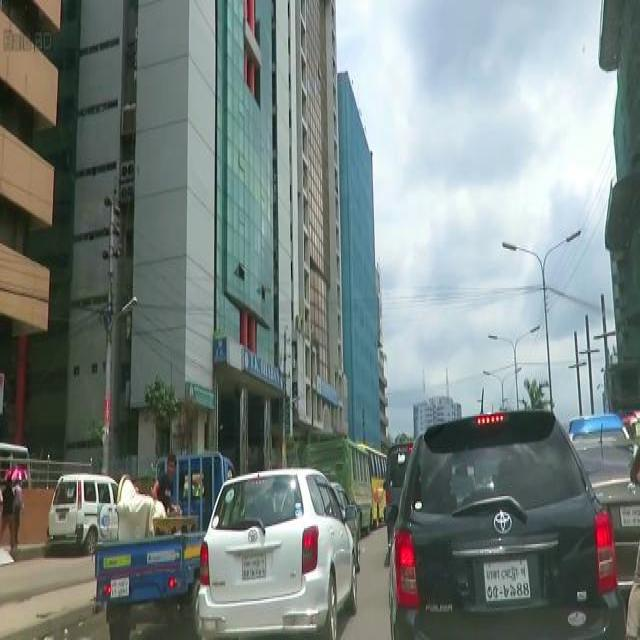11: (92, 452, 236, 636)
5: (382, 400, 628, 638), (195, 463, 359, 639)
9: (44, 470, 120, 554)
Truck: (305, 438, 373, 540), (360, 442, 386, 532)
